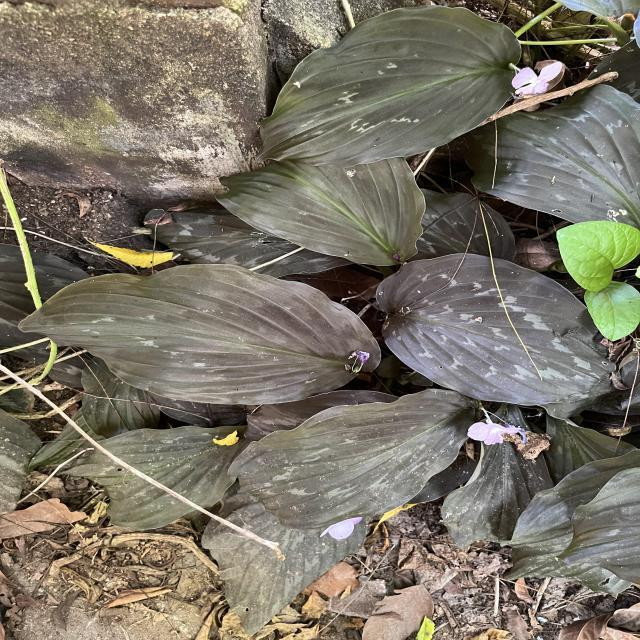Kaempferia galanga linn: (16, 261, 385, 408), (250, 2, 532, 170), (372, 250, 626, 409), (223, 387, 480, 531)
